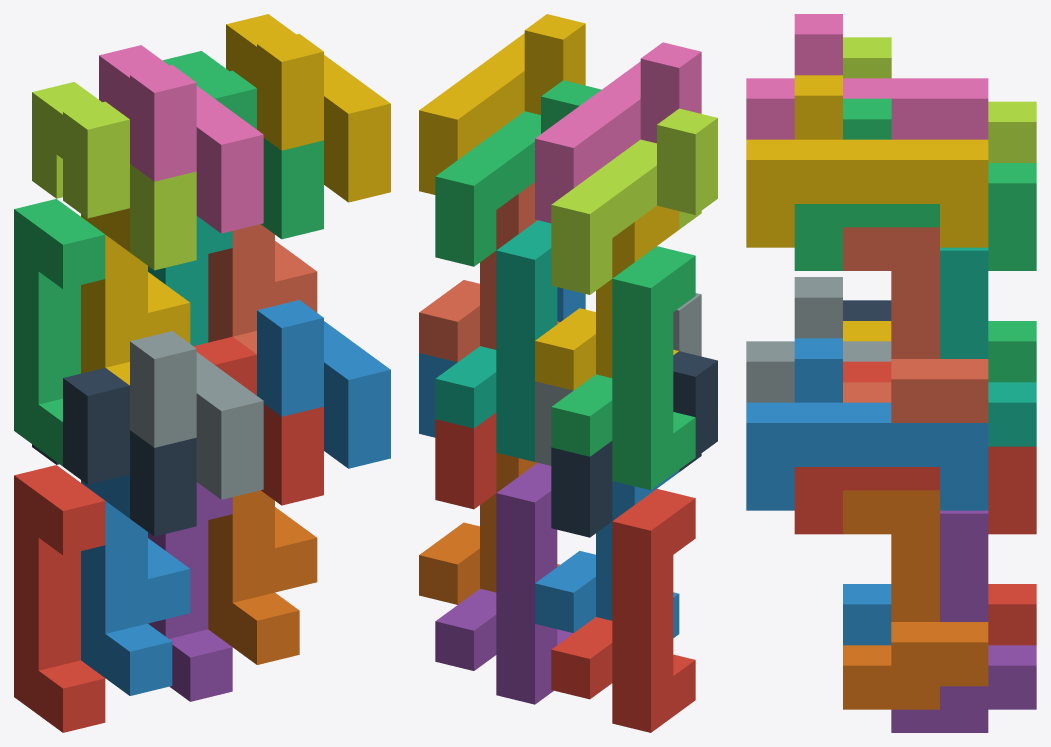
Rendered from tiling.obj.
The picture shows the model from 3 angles, left to right: view 1: azimuth 30°, elevation 25°; view 2: azimuth 150°, elevation 25°; view 3: azimuth 270°, elevation 25°; orthographic projection. The views are drawn at different scales.
Parts seen in each view (by area): view 1: copy_1_domain_1, copy_2_domain_4, copy_2_domain_8, copy_2_domain_3, copy_1_domain_3, copy_1_domain_2, copy_2_domain_2, copy_2_domain_6, copy_1_domain_6, copy_2_domain_1, copy_1_domain_4, copy_1_domain_8 (+4 smaller); view 2: copy_1_domain_1, copy_1_domain_3, copy_1_domain_5, copy_2_domain_3, copy_1_domain_7, copy_2_domain_4, copy_2_domain_8, copy_2_domain_7, copy_2_domain_1, copy_1_domain_4, copy_1_domain_8, copy_1_domain_2 (+4 smaller); view 3: copy_2_domain_8, copy_2_domain_6, copy_1_domain_6, copy_1_domain_8, copy_2_domain_4, copy_2_domain_7, copy_1_domain_5, copy_2_domain_5, copy_1_domain_7, copy_2_domain_2, copy_2_domain_3, copy_1_domain_1 (+4 smaller).
Part boxes in pixels (x1,y1,x2,y2): copy_1_domain_1: [14, 465, 105, 732]; copy_2_domain_4: [99, 45, 263, 233]; copy_2_domain_8: [226, 14, 390, 202]; copy_2_domain_3: [32, 82, 196, 270]; copy_1_domain_3: [14, 199, 105, 466]; copy_1_domain_2: [81, 474, 190, 695]; copy_2_domain_2: [130, 331, 263, 499]; copy_2_domain_6: [257, 300, 390, 468]; copy_1_domain_6: [208, 490, 317, 664]; copy_2_domain_1: [32, 367, 196, 536]; copy_1_domain_4: [81, 208, 190, 385]; copy_1_domain_8: [208, 224, 317, 353]; copy_1_domain_1: [551, 489, 695, 732]; copy_1_domain_3: [551, 246, 695, 490]; copy_1_domain_5: [435, 463, 573, 704]; copy_2_domain_3: [551, 108, 717, 294]; copy_1_domain_7: [435, 220, 557, 461]; copy_2_domain_4: [535, 42, 701, 223]; copy_2_domain_8: [419, 14, 585, 194]; copy_2_domain_7: [435, 80, 601, 266]; copy_2_domain_1: [551, 351, 717, 537]; copy_1_domain_4: [535, 205, 679, 390]; copy_1_domain_8: [419, 182, 559, 362]; copy_1_domain_2: [535, 470, 679, 637]; copy_2_domain_8: [746, 75, 988, 247]; copy_2_domain_6: [746, 338, 988, 510]; copy_1_domain_6: [843, 490, 988, 709]; copy_1_domain_8: [843, 227, 988, 422]; copy_2_domain_4: [746, 14, 988, 139]; copy_2_domain_7: [794, 98, 1036, 270]; copy_1_domain_5: [891, 510, 1036, 732]; copy_2_domain_5: [794, 361, 1036, 534]; copy_1_domain_7: [940, 247, 1036, 446]; copy_2_domain_2: [746, 277, 891, 402]; copy_2_domain_3: [843, 37, 1036, 162]; copy_1_domain_1: [988, 584, 1036, 645].
Bounding box in the file's own units: 6 × 15 × 6.
